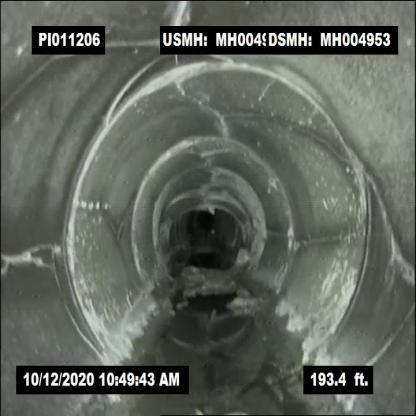crack: (374, 177, 415, 288), (0, 230, 63, 289), (180, 83, 242, 135), (294, 112, 347, 169)
